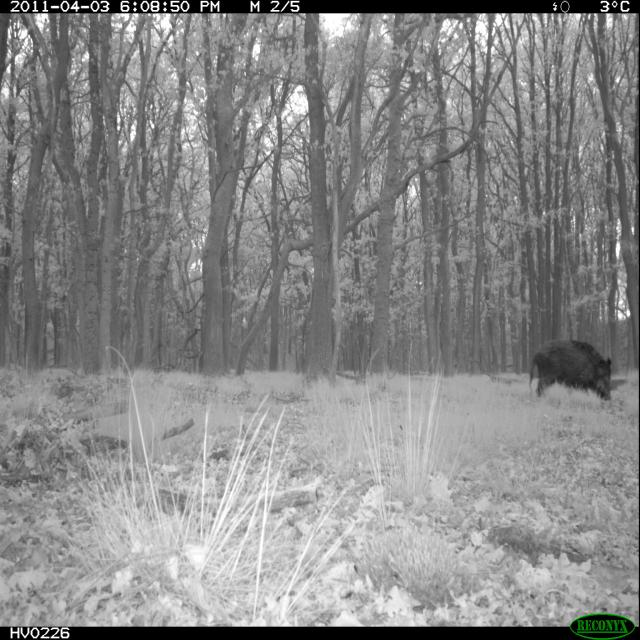boar: (526, 319, 628, 428)
